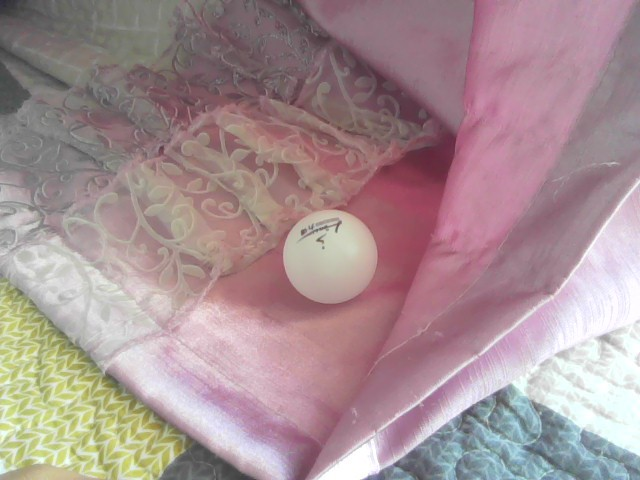ball: (283, 209, 378, 305)
